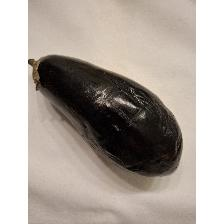Aubergine: (28, 50, 184, 177)
